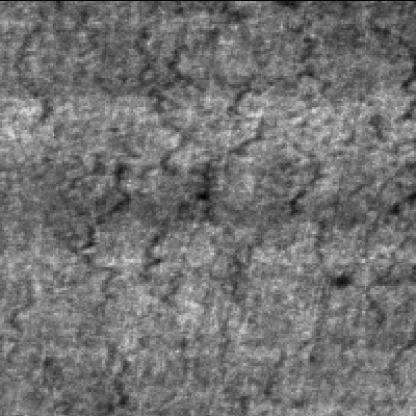crazing: (6, 0, 366, 212), (30, 83, 193, 381), (188, 110, 350, 368)
